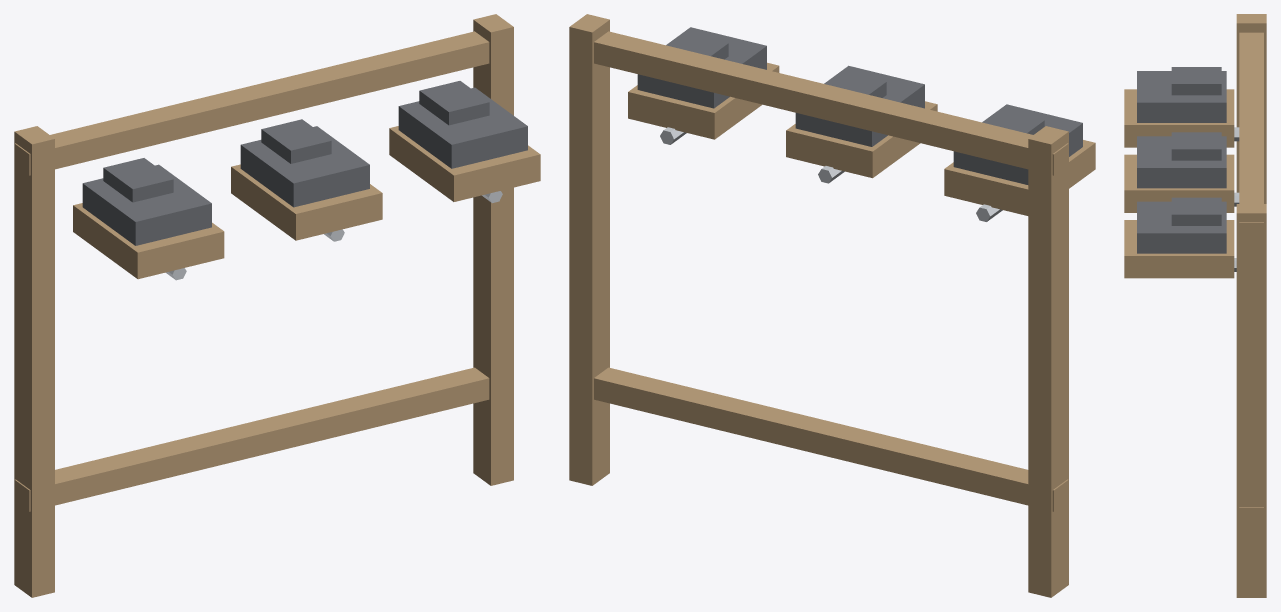
Rendered from racecourse-and-parade-ring-saddle-rack-401ceca2__38621.glb.
3 renders of one model, left to right at view 1: azimuth 30°, elevation 25°; view 2: azimuth 150°, elevation 25°; view 3: azimuth 270°, elevation 25°, orthographic. The views are drawn at different scales.
Visible parts, largest first — view 1: saddle-rack; view 2: saddle-rack; view 3: saddle-rack.
Boxes of the visible parts, bbox=[...] form: saddle-rack: bbox=[14, 14, 540, 597]; saddle-rack: bbox=[569, 14, 1095, 597]; saddle-rack: bbox=[1124, 14, 1266, 597].
Bounding box in the file's own units: 1.9 × 1.7 × 0.5699.
